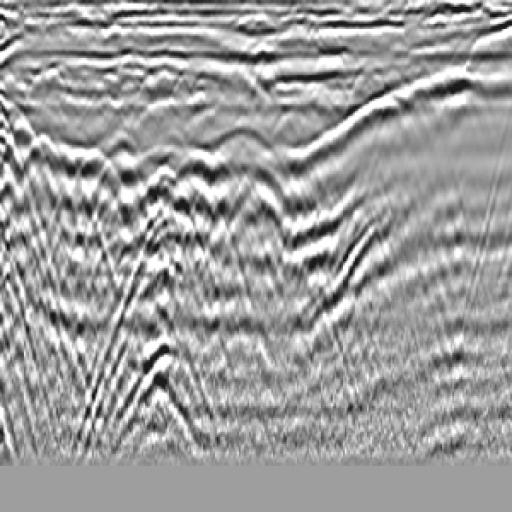metalic: (192, 122, 306, 312)
